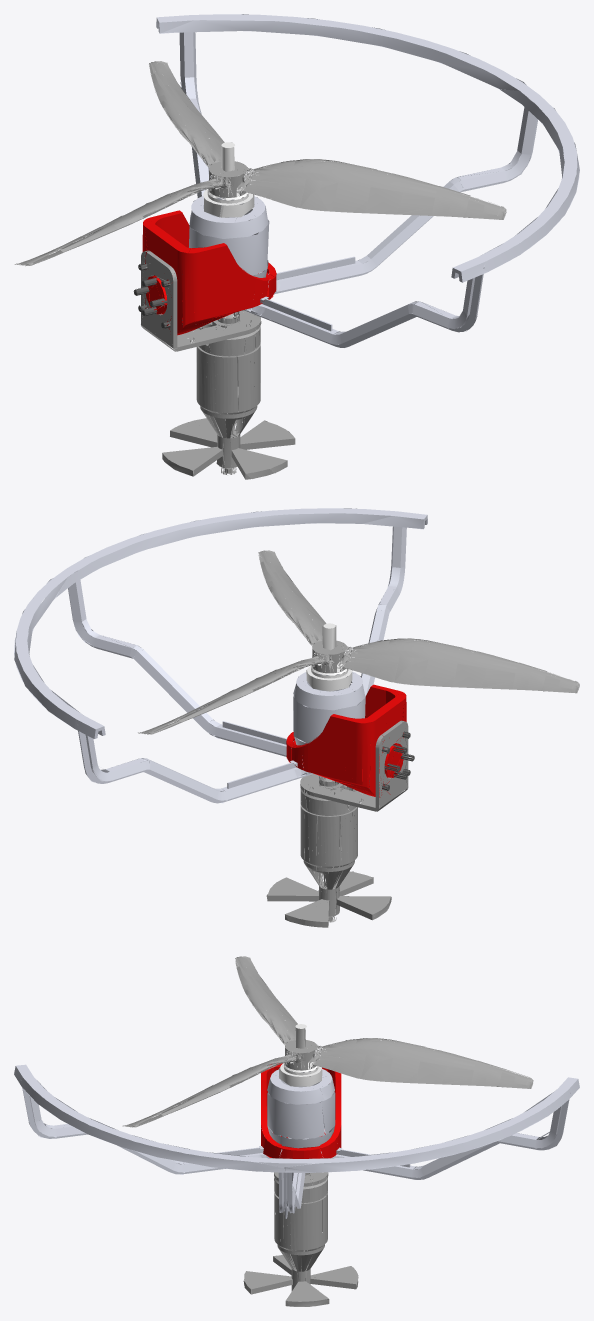
File: thrust_unit_v2.dae
3 renders of one model, top to bottom at view 1: azimuth 30°, elevation 25°; view 2: azimuth 150°, elevation 25°; view 3: azimuth 270°, elevation 25°, orthographic. The views are drawn at different scales.
Parts seen in each view (by area): view 1: flamingo_v2_thrustUnit1; view 2: flamingo_v2_thrustUnit1; view 3: flamingo_v2_thrustUnit1.
Boxes of the visible parts, x1=… form: flamingo_v2_thrustUnit1: x1=14, y1=14, x2=579, y2=479; flamingo_v2_thrustUnit1: x1=14, y1=508, x2=579, y2=927; flamingo_v2_thrustUnit1: x1=14, y1=956, x2=579, y2=1306.
Bounding box in the file's own units: 0.2773 × 0.2965 × 0.1578.
